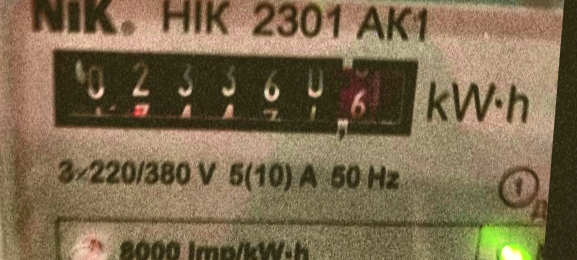0: (80, 58, 109, 102), (301, 61, 327, 99)
2: (125, 55, 154, 97)
3: (172, 57, 196, 99), (214, 59, 239, 98)
6: (256, 62, 285, 105), (347, 83, 371, 121)
screen: (24, 15, 433, 165)
